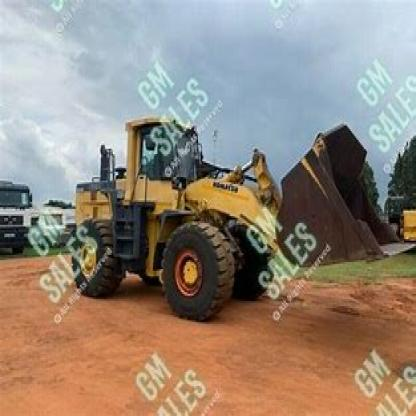bull_dozer/loader/grader: (66, 106, 414, 326)
